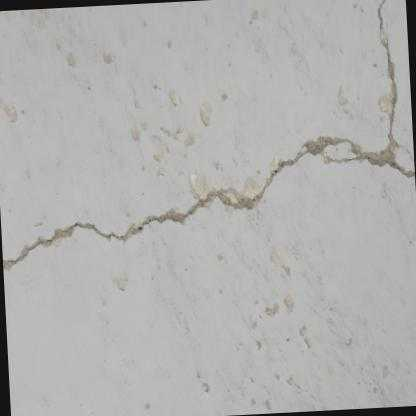crack: (2, 0, 415, 278)
